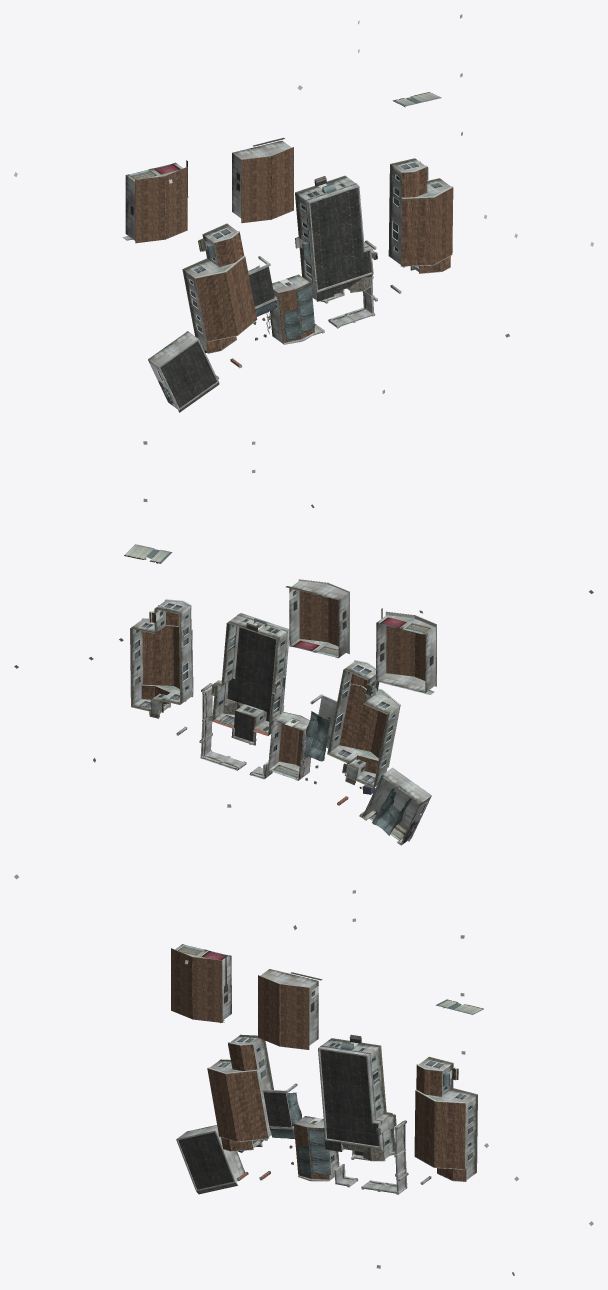
The model's file is SC11_res02.fbx.
The picture shows the model from 3 angles, top to bottom: view 1: azimuth 30°, elevation 25°; view 2: azimuth 150°, elevation 25°; view 3: azimuth 330°, elevation 25°; orthographic projection.
Visible parts, largest first — view 1: sc1_11_res11; view 2: sc1_11_res11; view 3: sc1_11_res11.
Boxes of the visible parts, x1,y1,x2,y2 form: sc1_11_res11: (122, 92, 453, 412); sc1_11_res11: (124, 544, 436, 845); sc1_11_res11: (171, 944, 483, 1194).
Bounding box in the file's own units: 9321 × 5766 × 877.
